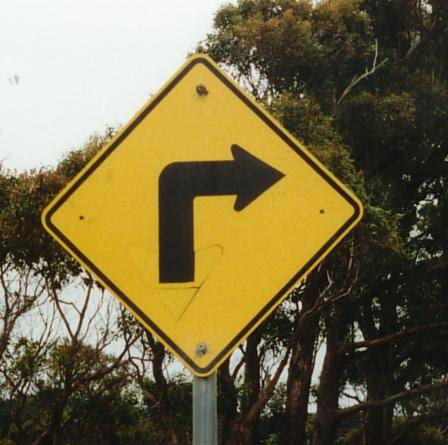right: (65, 34, 380, 388), (168, 43, 408, 241), (215, 108, 435, 292), (143, 131, 348, 308), (192, 73, 338, 228), (151, 144, 289, 283)
